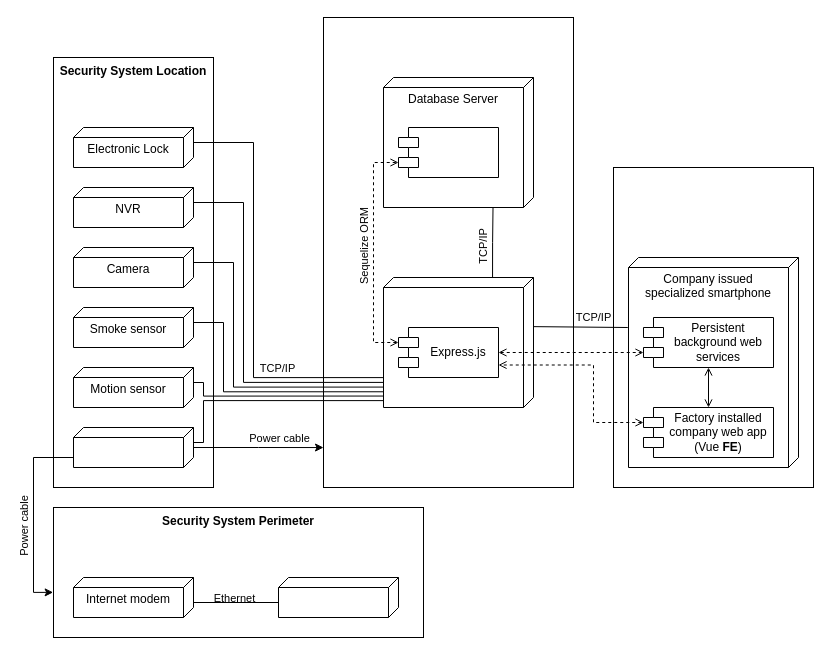
The diagram is 831 pixels wide and 655 high, and some of its shapes have lost their labels. Each missing label, with the box of its shape:
Clients (Security personnel): (612, 166, 814, 488)
MySQL: (398, 126, 498, 178)
Node.js web server: (382, 276, 534, 408)
Security System BE: (322, 16, 574, 488)
UPS: (72, 426, 194, 468)
Wi-Fi router: (278, 576, 398, 618)
